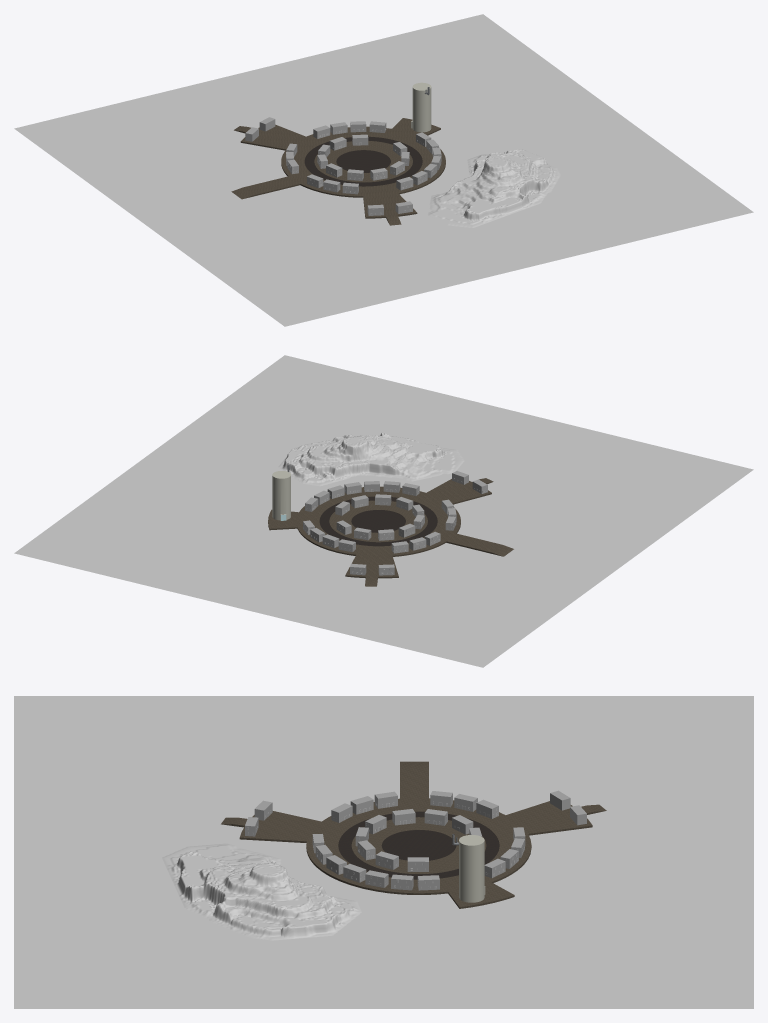
Rendered from SM_Reverie.fbx.
3 views of the same model, one above another, from view 1: azimuth 30°, elevation 25°; view 2: azimuth 150°, elevation 25°; view 3: azimuth 270°, elevation 25° (orthographic). The views are drawn at different scales.
Parts seen in each view (by area): view 1: Reverie; view 2: Reverie; view 3: Reverie.
Boxes of the visible parts, x1,y1,x2,y2 form: Reverie: [14, 14, 753, 326]; Reverie: [14, 355, 753, 667]; Reverie: [14, 696, 753, 1008].
Size of the model in its own units: 99804 by 9669 by 99804.
